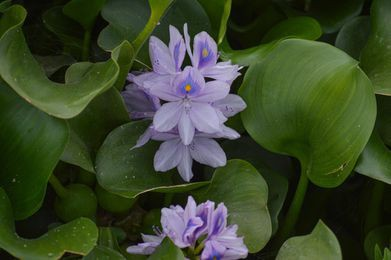water_hyacinth: (1, 1, 391, 260)
